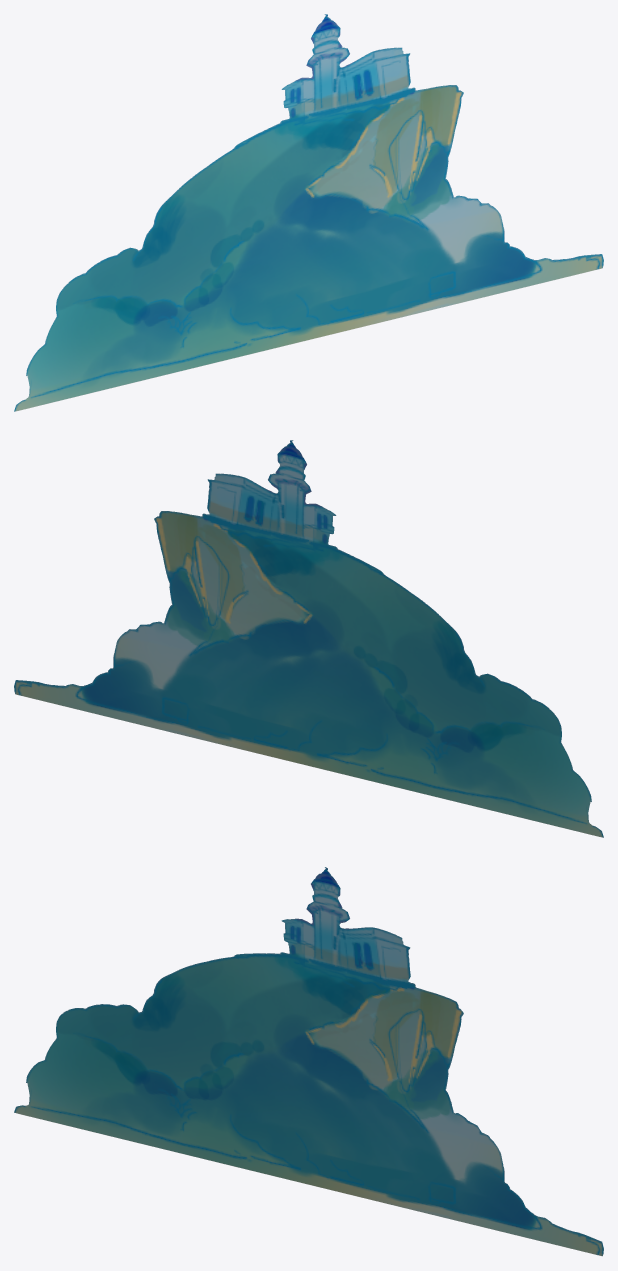
The model's file is tower.fbx.
The picture shows the model from 3 angles, top to bottom: view 1: azimuth 30°, elevation 25°; view 2: azimuth 150°, elevation 25°; view 3: azimuth 330°, elevation 25°; orthographic projection.
Visible parts, largest first — view 1: mask34; view 2: mask34; view 3: mask34.
Part boxes in pixels (x1,y1,x2,y2): mask34: (14, 14, 603, 411); mask34: (14, 440, 603, 837); mask34: (14, 867, 603, 1256).
Bounding box in the file's own units: 16.11 × 8.41 × 1.53e-07.
1 material, 1 textured.
